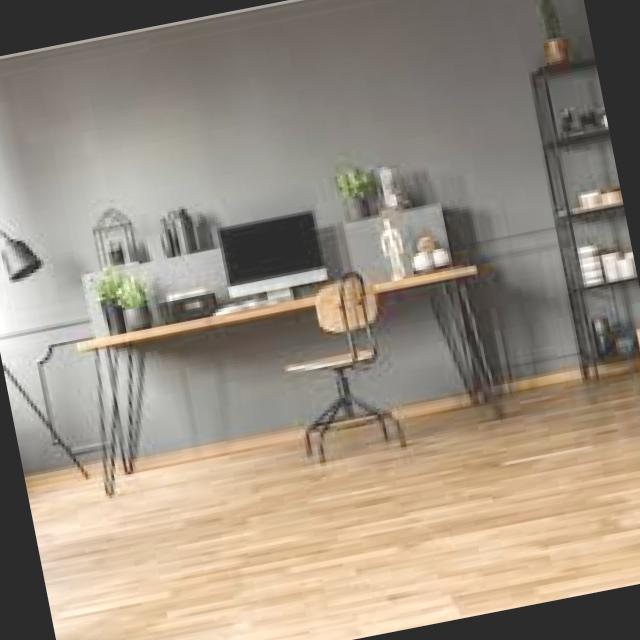obstacle: (249, 254, 452, 488)
